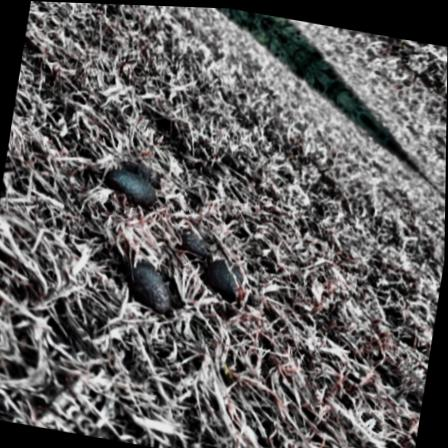dog-poop: (180, 224, 258, 297), (100, 156, 166, 213), (114, 255, 178, 309)
